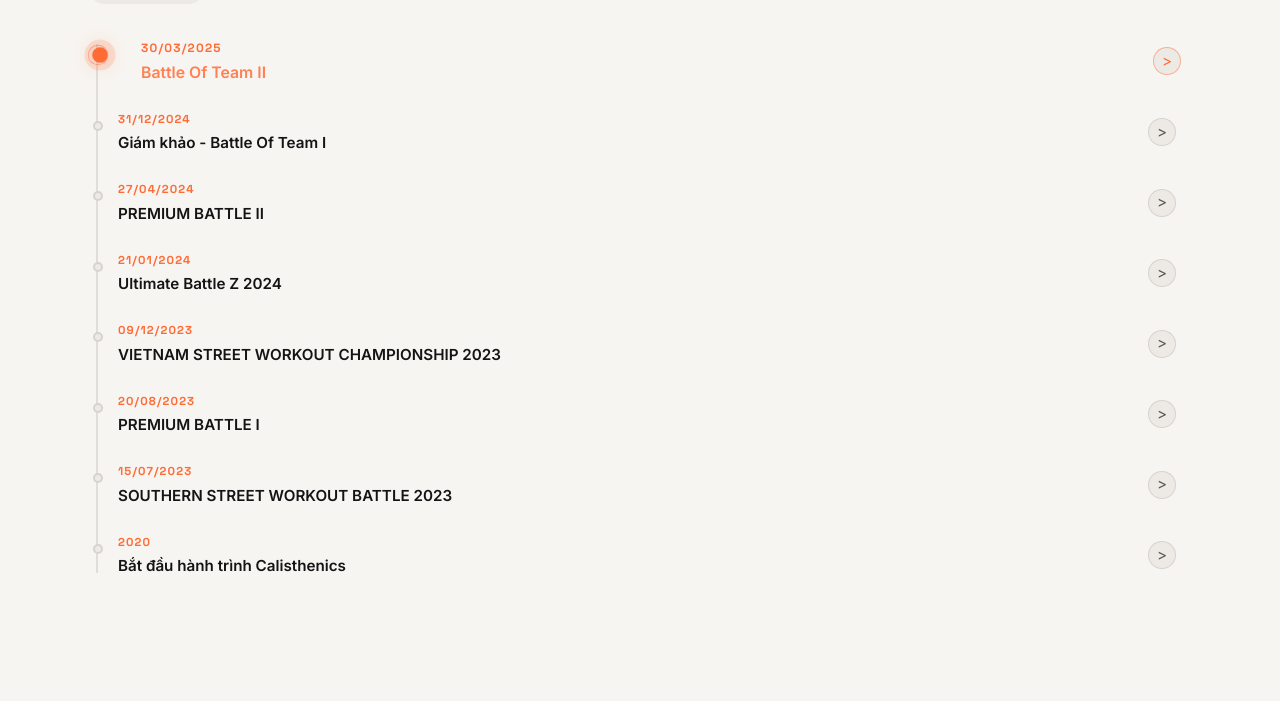
Test: AboutMe component › render phan gioi thieu va tab
This screenshot has width=1280, height=701.
(page scrolled)
Expected: the text "Bắt đầu hành trình Calisthenics" is shown, [118,556,346,575]
Click the button "2020 Bắt đầu hành trình Calisthenics >" at (135, 542), box [118,530,1176,580]
(page scrolled)
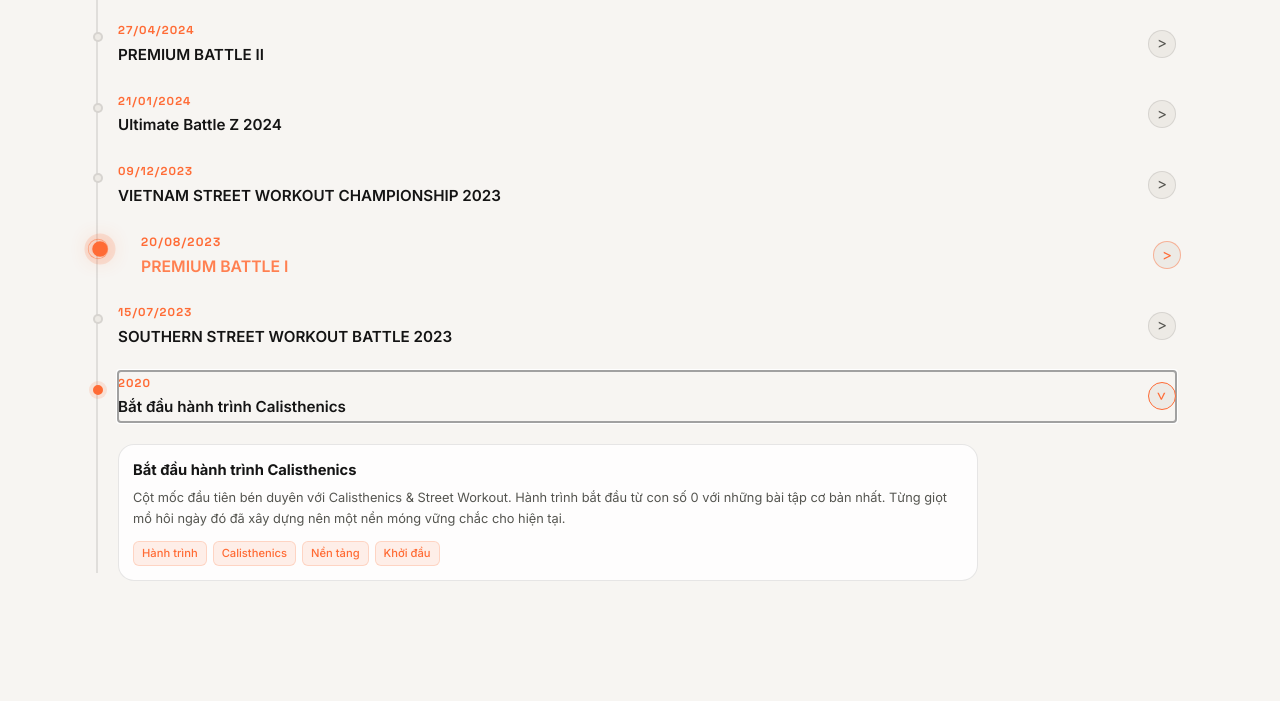
Expected: the button "2020 Bắt đầu hành trình Calisthenics >" is expanded, [118,371,1176,422]
Expected: the text "Hành trình" is shown, [133,541,207,566]
